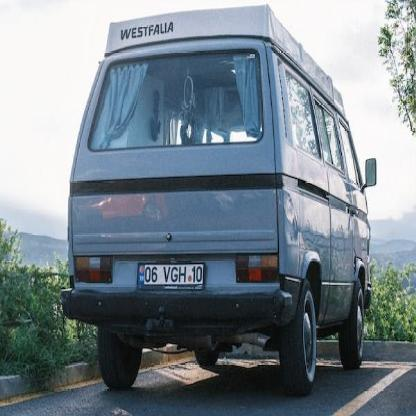number plate: (143, 264, 204, 288)
van back: (61, 0, 382, 397)
